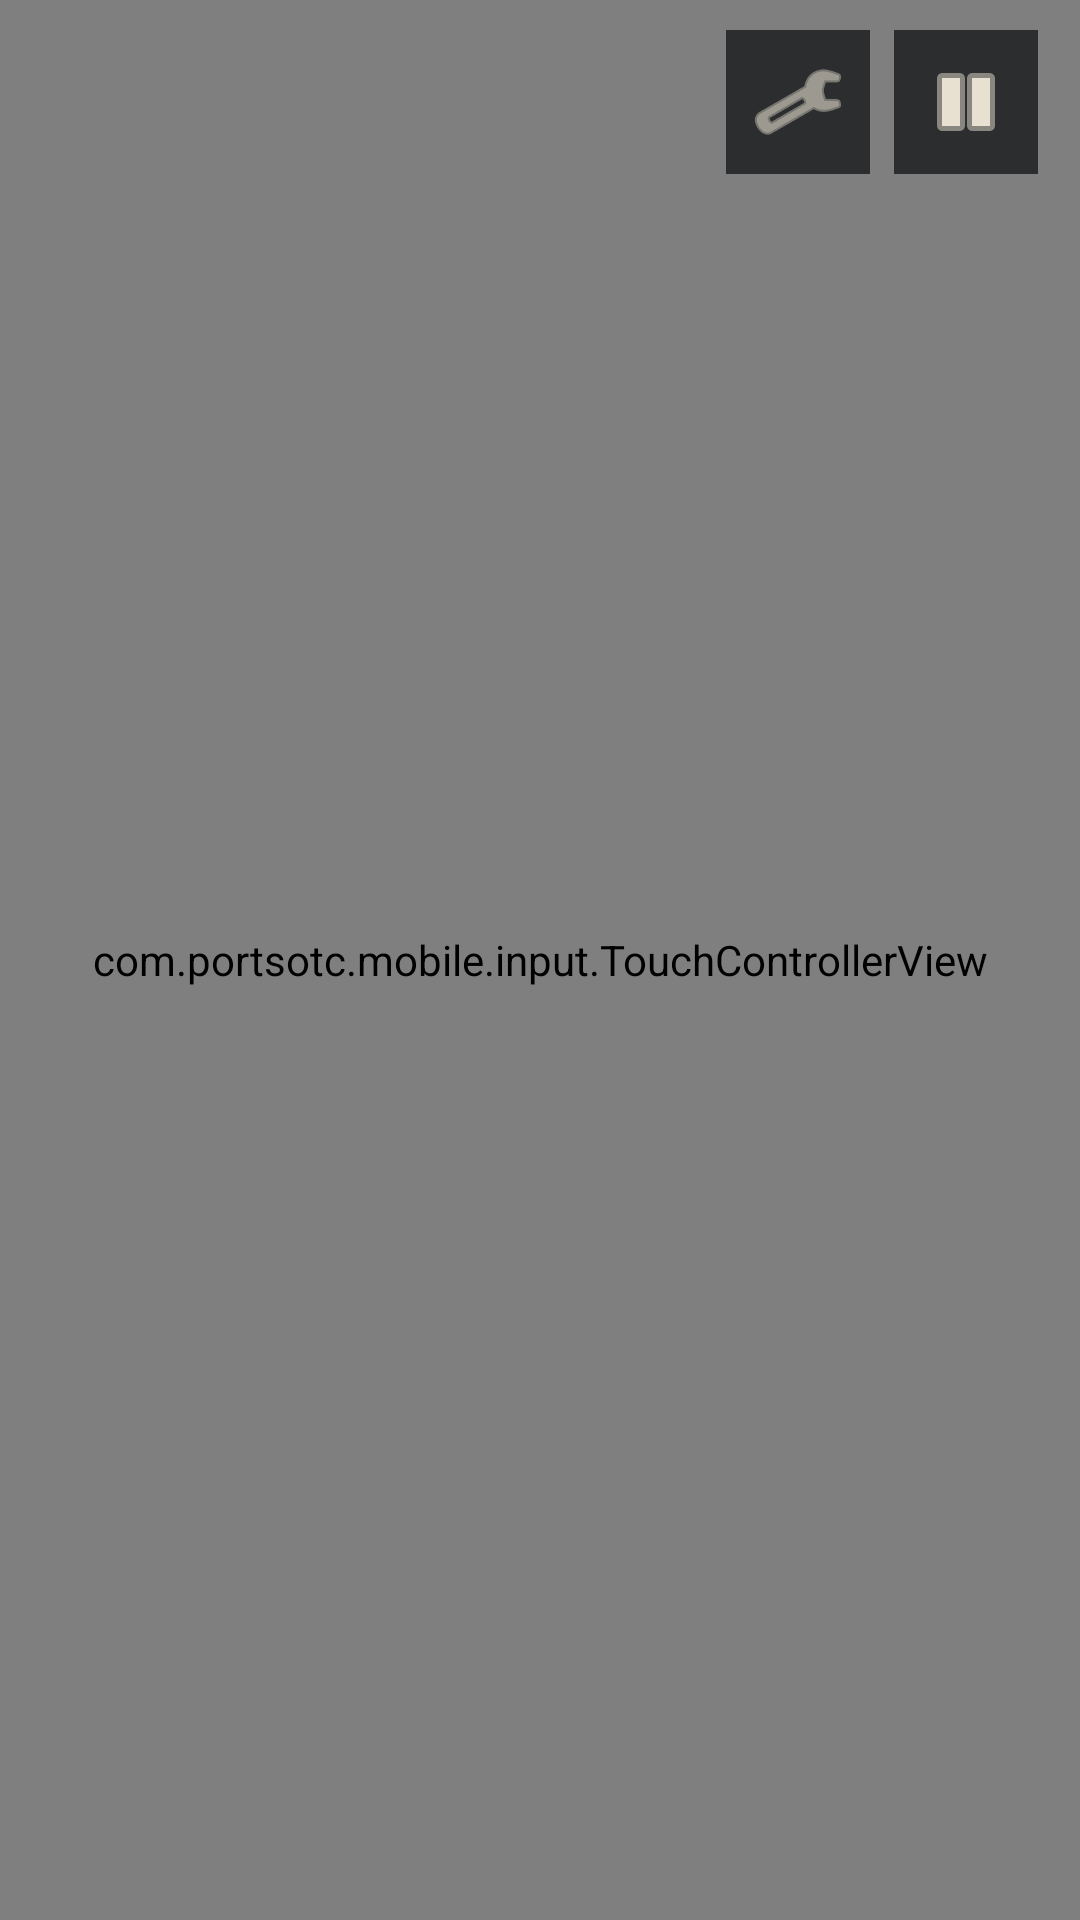

Where icons sit on this 1080 x 1920 app screen, as detection(x1, y1, x2, y2):
PAUSED: detection(894, 30, 1038, 174)
Quick settings: detection(726, 30, 870, 174)
